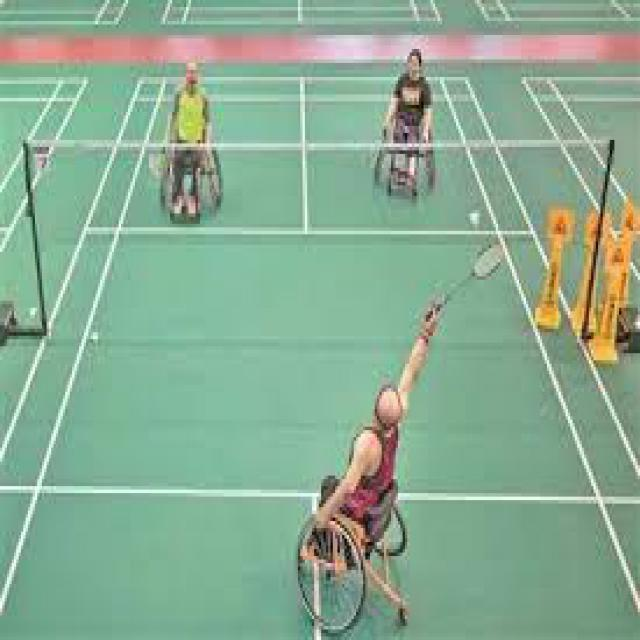wheelchairs: (290, 466, 416, 636), (146, 136, 232, 231), (363, 112, 445, 196)
